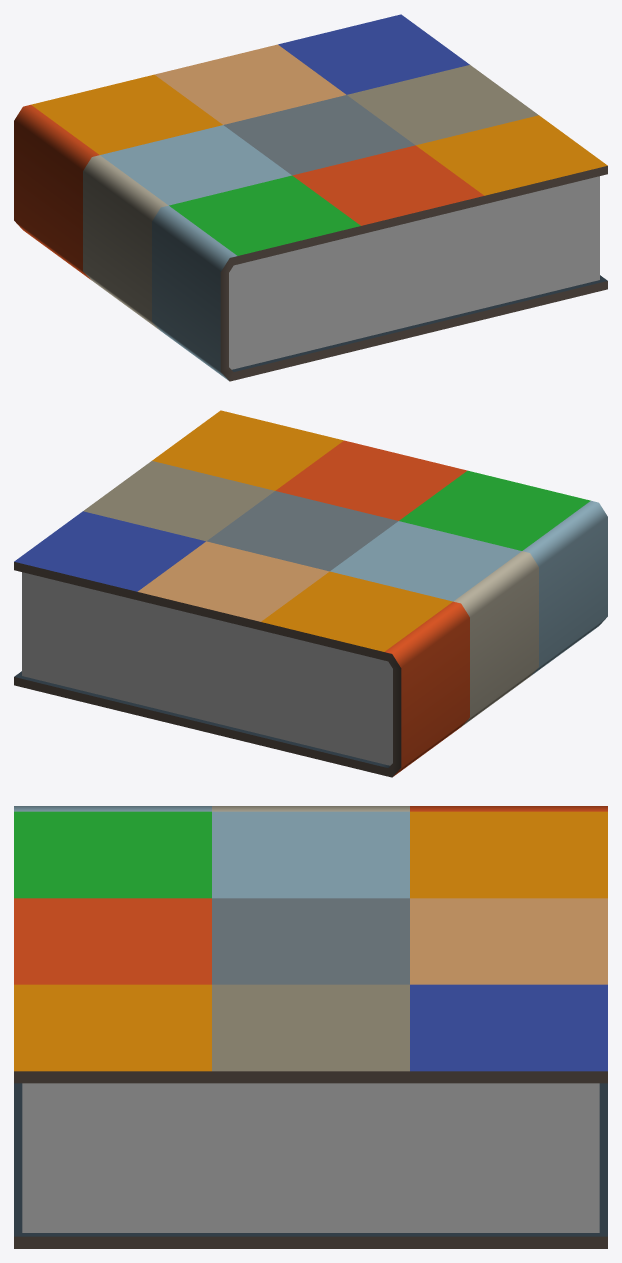
The model's file is human-household-items-book_v5.glb.
3 views of the same model, one above another, from view 1: azimuth 30°, elevation 25°; view 2: azimuth 150°, elevation 25°; view 3: azimuth 270°, elevation 25° (orthographic). The views are drawn at different scales.
Parts seen in each view (by area): view 1: Book_v5; view 2: Book_v5; view 3: Book_v5.
Boxes of the visible parts, x1,y1,x2,y2 form: Book_v5: (14, 14, 607, 381); Book_v5: (14, 410, 607, 777); Book_v5: (14, 806, 607, 1248).
Size of the model in its own units: 0.25 by 0.0763 by 0.2312.
